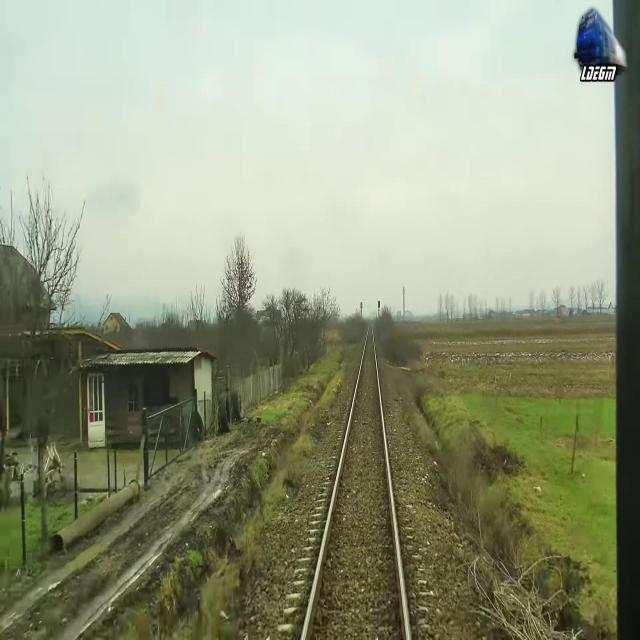rail-track: (306, 327, 405, 639)
